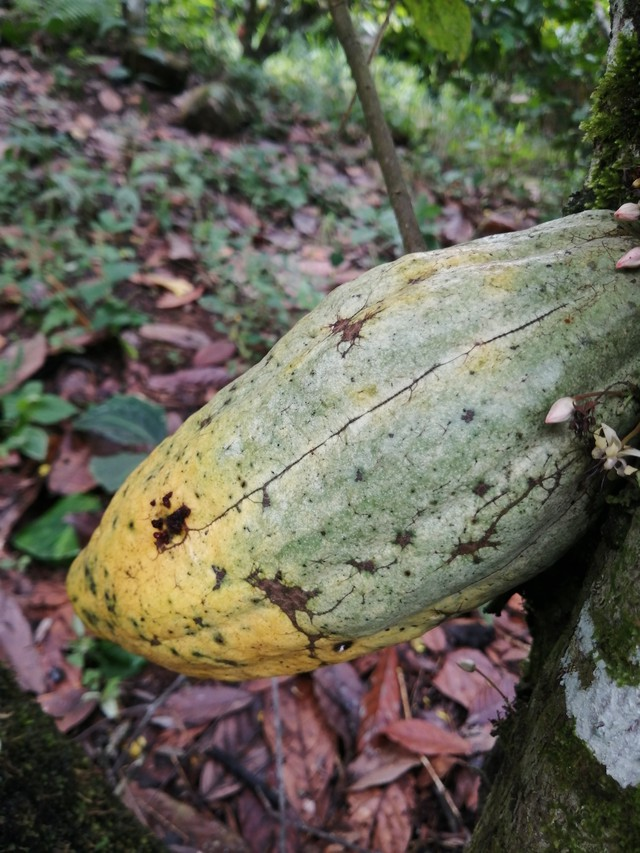carmenta foraseminis: (63, 202, 639, 697)
